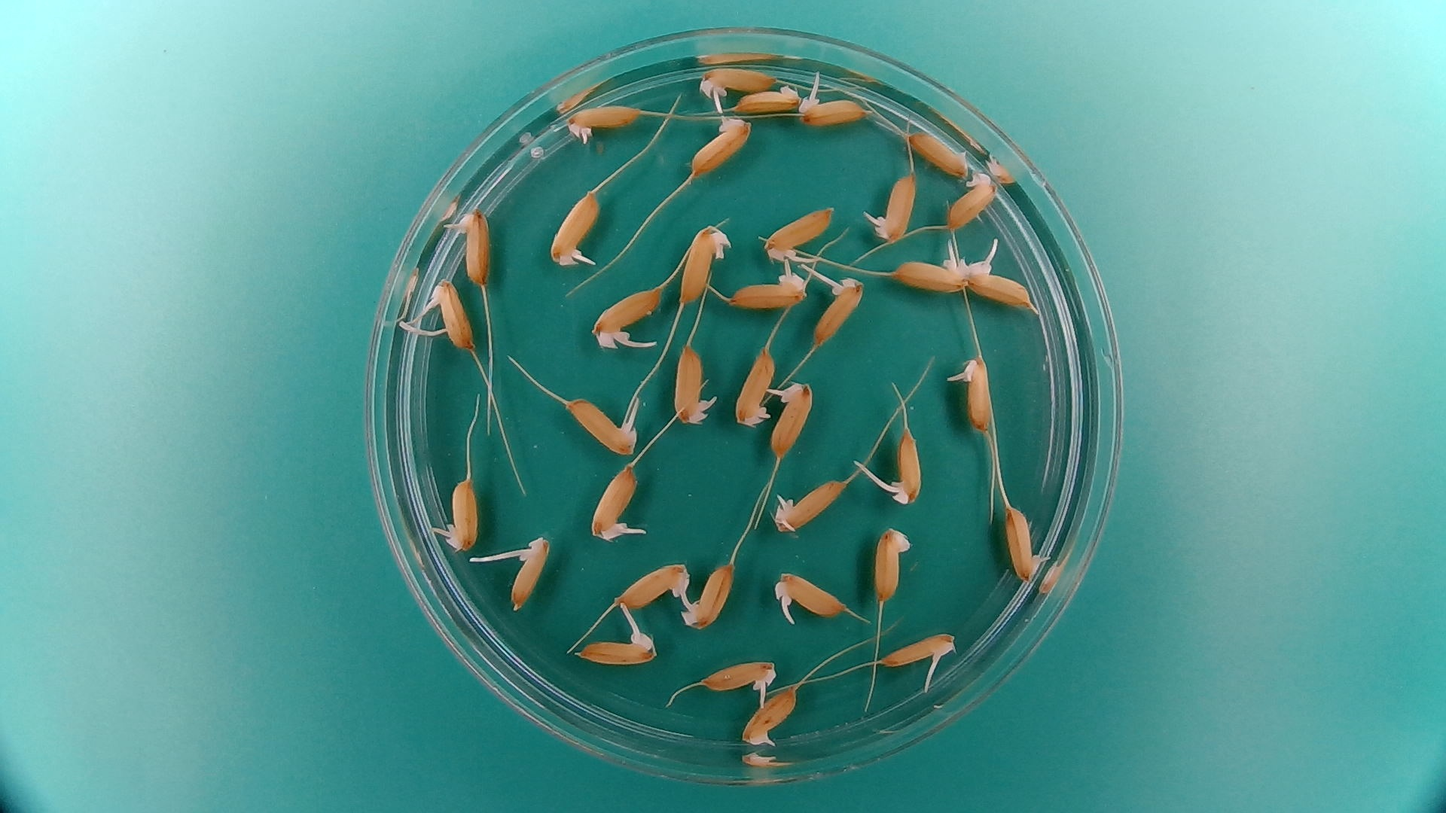no: (676, 220, 731, 306), (686, 113, 753, 176), (905, 126, 971, 180), (734, 346, 775, 428), (942, 171, 998, 231), (872, 524, 913, 601), (731, 81, 801, 114)
yes: (590, 282, 664, 346), (547, 185, 602, 271), (563, 395, 640, 455), (588, 461, 642, 542), (764, 209, 842, 265), (771, 475, 844, 531), (423, 275, 476, 352), (505, 532, 554, 614), (764, 379, 814, 458), (612, 559, 692, 608), (681, 559, 737, 629), (772, 570, 850, 619), (813, 273, 865, 346), (963, 257, 1031, 312), (727, 264, 810, 309), (878, 630, 958, 676), (741, 681, 798, 745), (562, 99, 645, 142), (673, 343, 716, 425), (891, 247, 968, 292), (876, 169, 920, 245), (1007, 504, 1047, 583), (694, 62, 779, 96), (459, 206, 492, 291), (959, 357, 996, 432), (443, 478, 480, 551), (578, 629, 650, 665), (889, 433, 924, 506), (703, 661, 778, 695), (795, 93, 868, 127)
